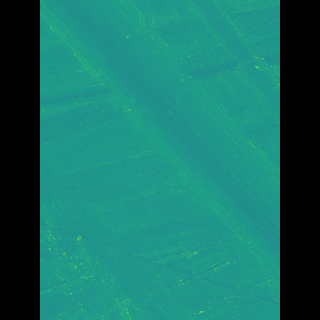Loch: (68, 3, 250, 275), (69, 133, 183, 320), (71, 194, 124, 303)
